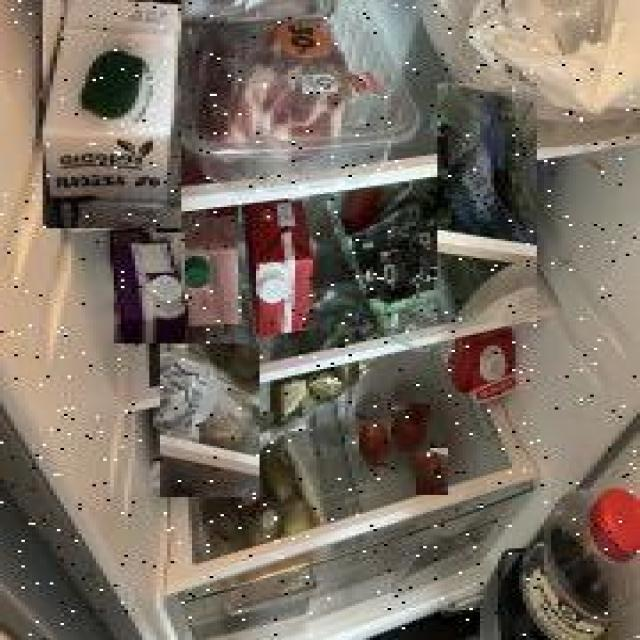avocado: (366, 252, 420, 298), (409, 226, 451, 280)
bread: (160, 344, 260, 497)
milk: (42, 0, 181, 228), (243, 203, 314, 341), (114, 232, 185, 344)
salad: (439, 83, 539, 322)
tomato: (391, 404, 430, 454), (359, 420, 391, 467), (416, 448, 448, 495)
